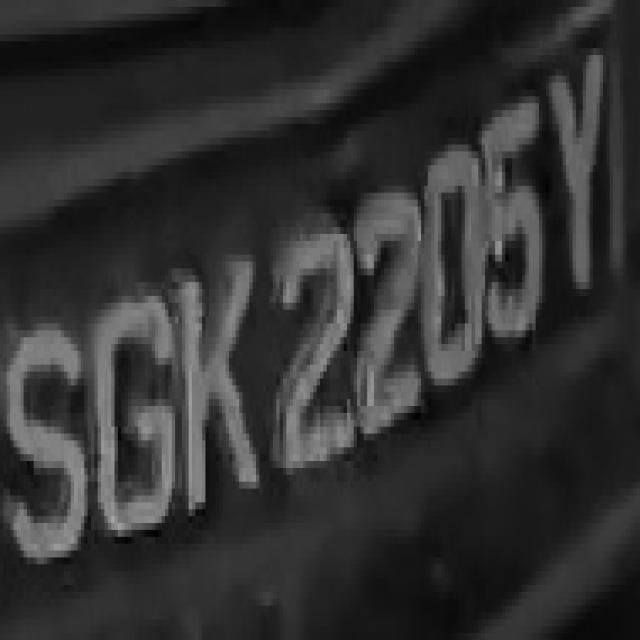0: (404, 117, 492, 392)
2: (347, 172, 434, 461), (276, 220, 364, 496)
5: (475, 76, 546, 372)
G: (84, 262, 182, 550)
K: (158, 241, 256, 537)
S: (7, 296, 84, 599)
Y: (536, 34, 613, 323)
